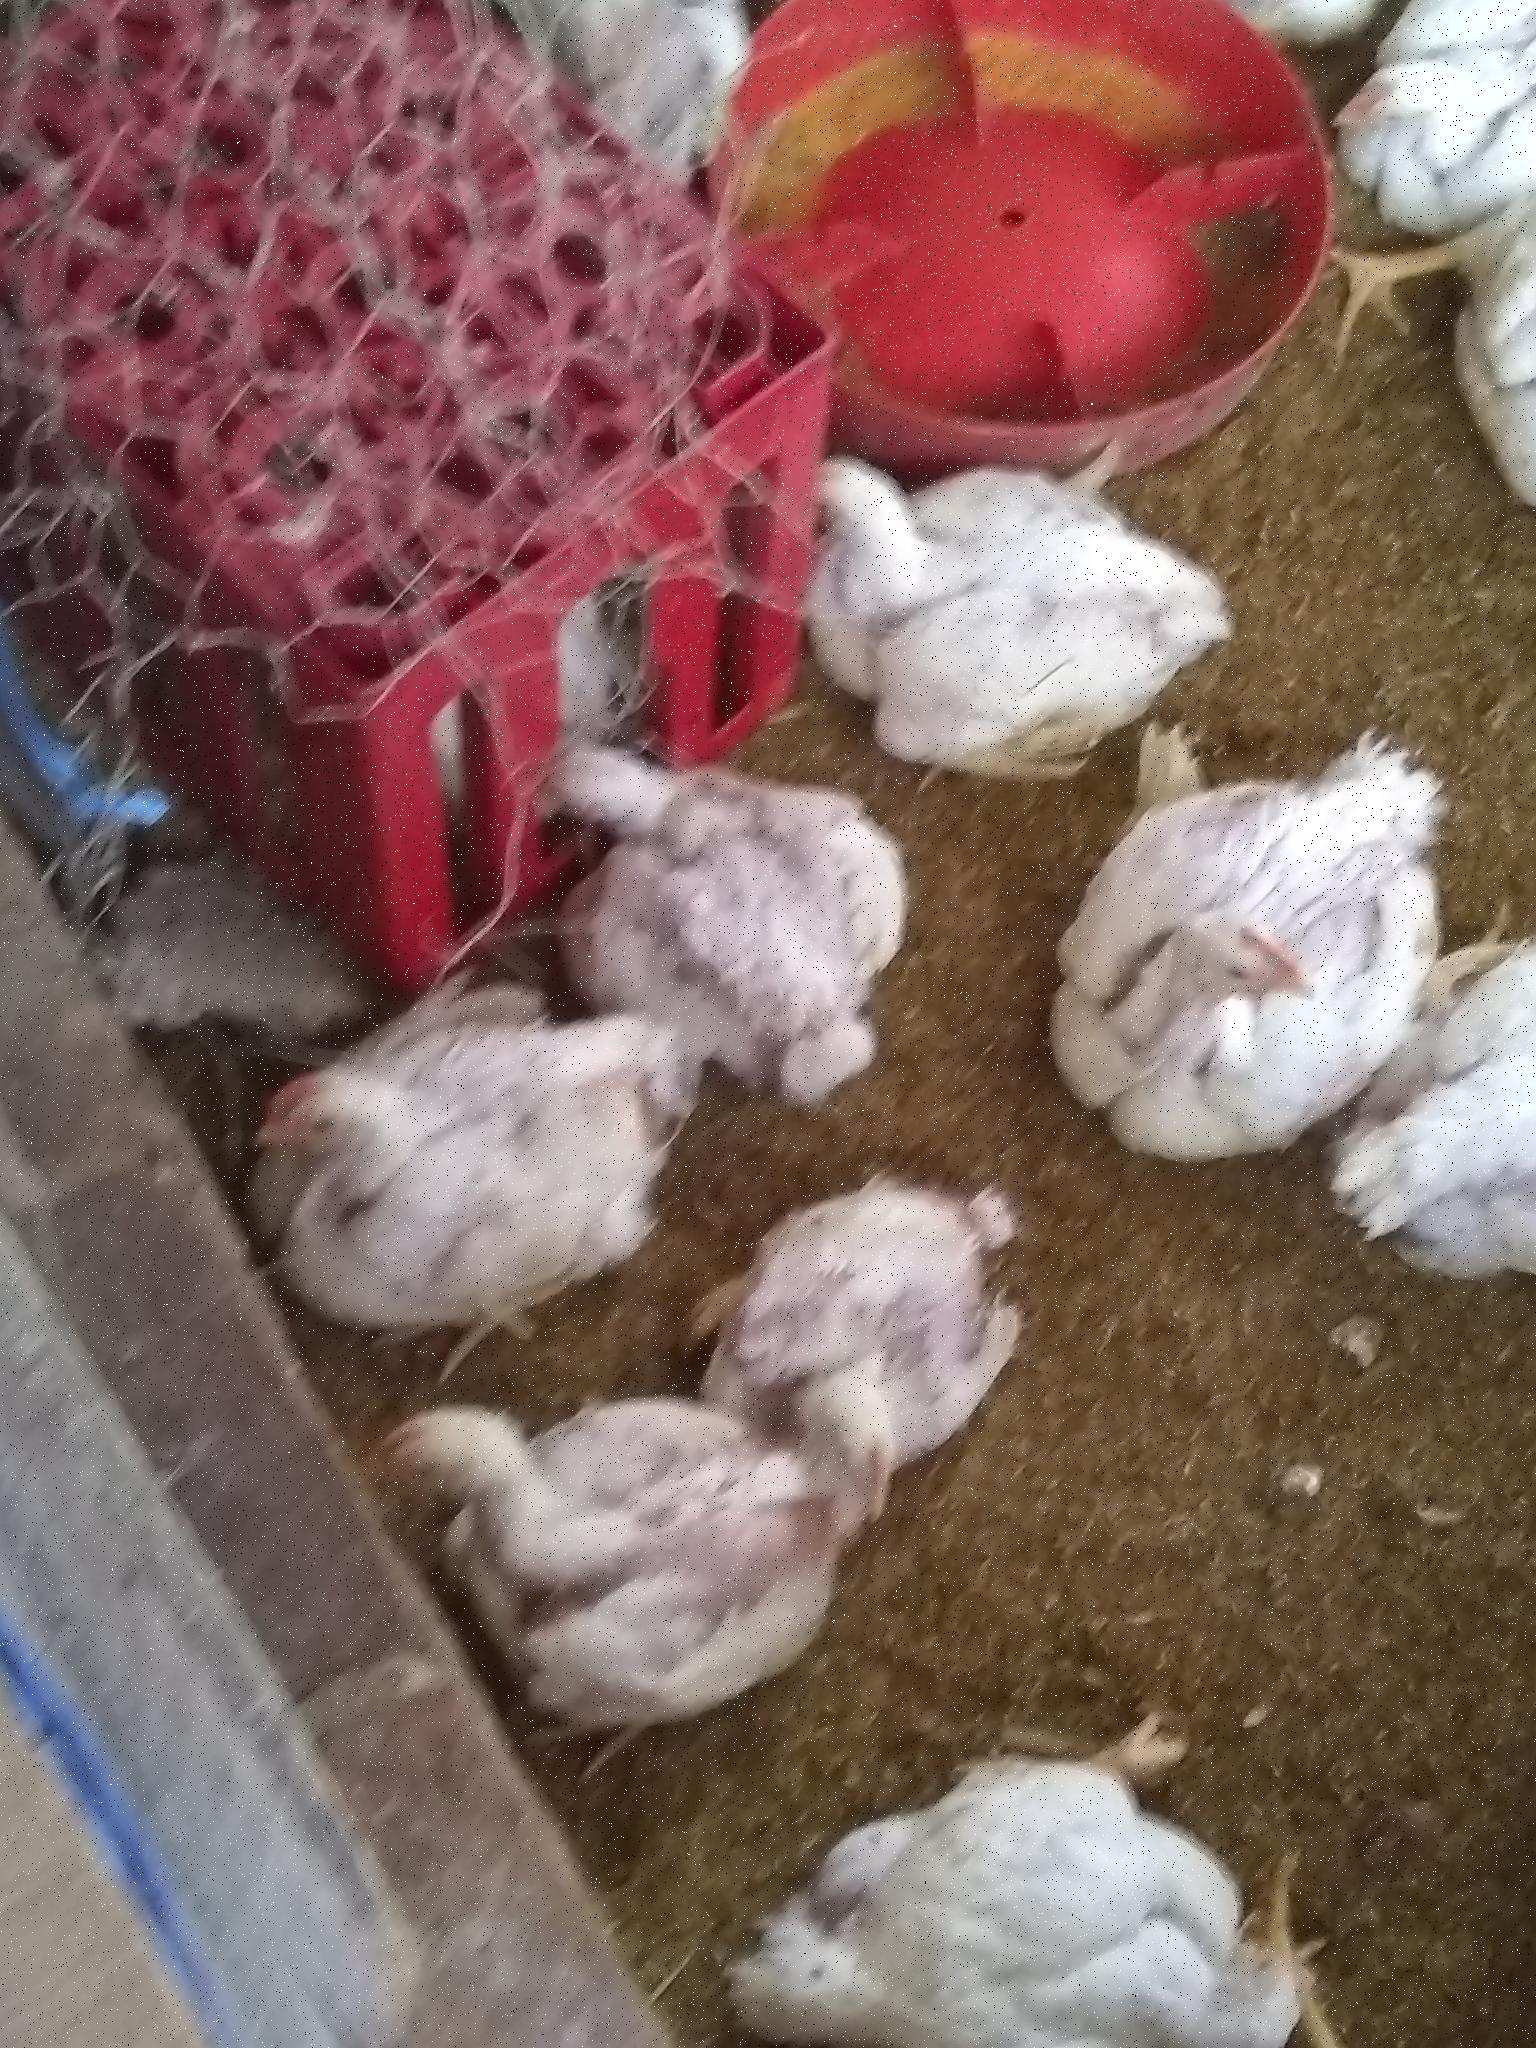Pollos: (742, 1721, 1388, 2048), (342, 1348, 886, 1716), (765, 397, 1249, 768), (113, 997, 700, 1293), (1012, 724, 1488, 1064), (536, 714, 962, 1064), (687, 1159, 1097, 1451), (1258, 211, 1536, 503), (1359, 910, 1536, 1308), (473, 2, 786, 206), (1317, 5, 1536, 226)
